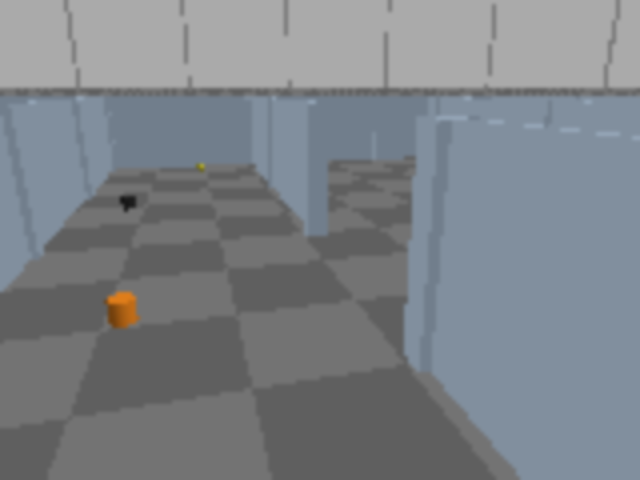puck: (108, 292, 136, 327)
